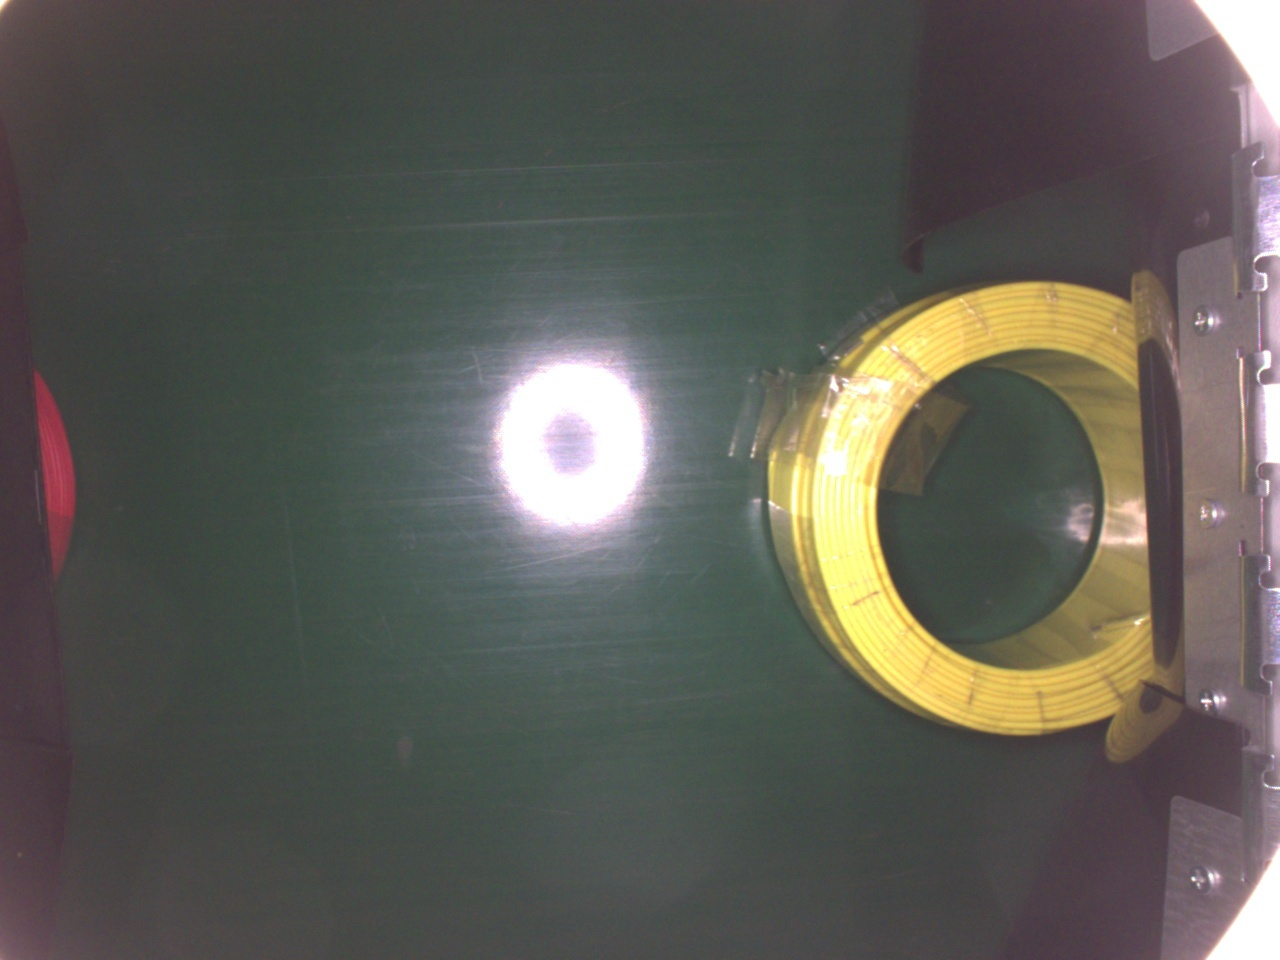yellow: (764, 276, 1152, 737)
